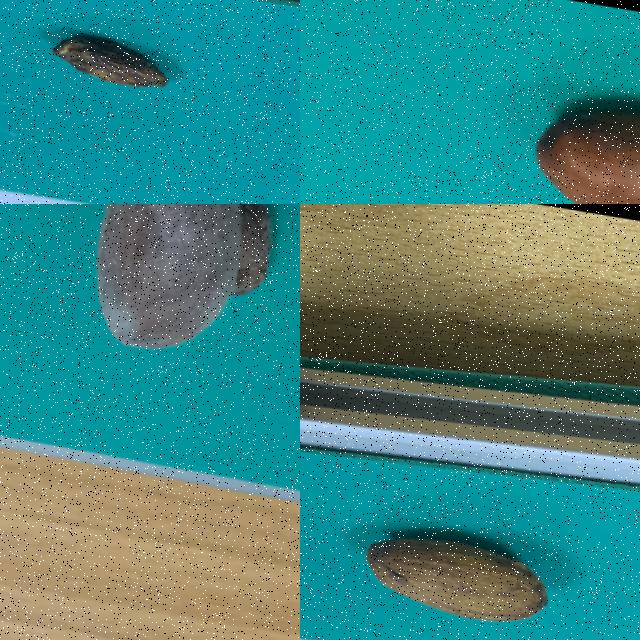Agglomerated_cocoabeans: (0, 204, 299, 384)
Fine_cocoabeans: (300, 445, 634, 639), (411, 0, 639, 203)
Flat_cocoabeans: (0, 0, 270, 132)
